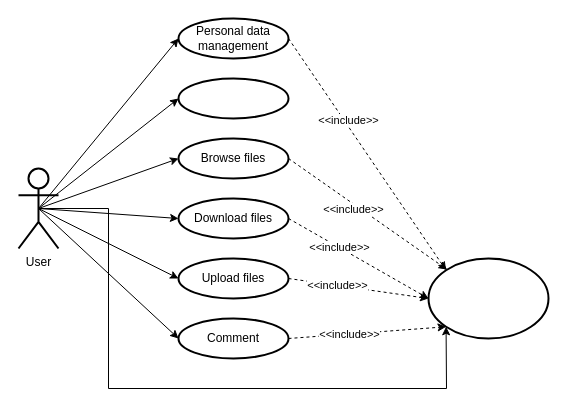
Image size: 566x414. Some labels were removed from this diagram. Here are the shapes that lost their labels. From the top down, the centre of each, then its label:
At point 233,98: "Register".
At point 488,298: "Login".
